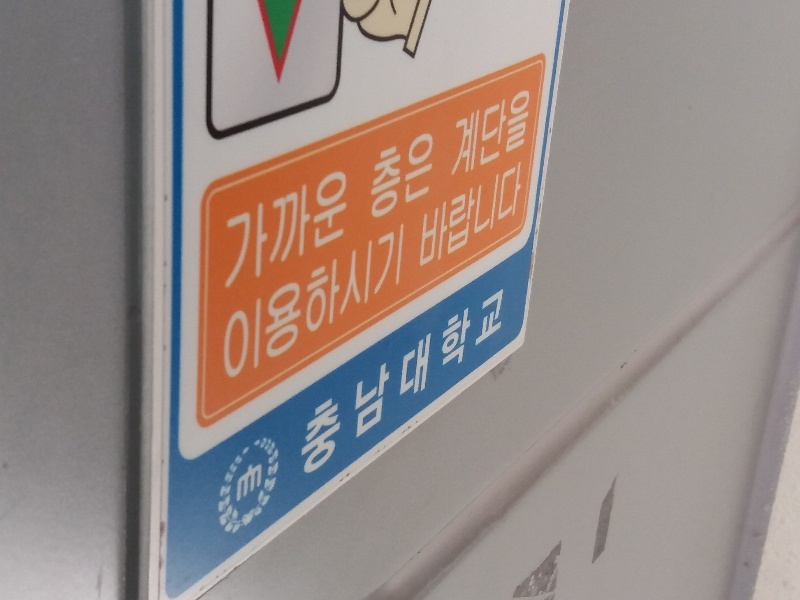text: (321, 280, 336, 486), (337, 280, 352, 486), (353, 280, 368, 486), (369, 280, 384, 486), (385, 280, 400, 486), (401, 280, 416, 486), (417, 280, 432, 486), (433, 280, 448, 486), (449, 280, 464, 486), (465, 280, 480, 486), (481, 280, 496, 486), (306, 280, 320, 486), (225, 216, 240, 393), (241, 216, 256, 393), (257, 216, 272, 393), (273, 216, 288, 393), (289, 216, 304, 393), (305, 216, 320, 393), (321, 216, 336, 393), (337, 216, 352, 393), (353, 216, 368, 393), (369, 216, 384, 393), (385, 216, 400, 393), (225, 163, 240, 300), (241, 163, 256, 300), (257, 163, 272, 300), (273, 163, 288, 300), (289, 163, 304, 300), (305, 163, 320, 300), (321, 163, 336, 300), (497, 280, 506, 486), (433, 157, 448, 277), (449, 157, 464, 277), (465, 157, 480, 277), (481, 157, 496, 277), (497, 157, 512, 277), (337, 163, 350, 300), (385, 128, 400, 228), (401, 128, 416, 228), (417, 128, 432, 228), (465, 86, 480, 186), (481, 86, 496, 186), (497, 86, 512, 186), (513, 86, 528, 186), (420, 157, 432, 277), (513, 157, 524, 277), (373, 128, 384, 228), (401, 216, 407, 393), (454, 86, 464, 186), (433, 128, 439, 228), (529, 86, 533, 186), (223, 163, 224, 300)
